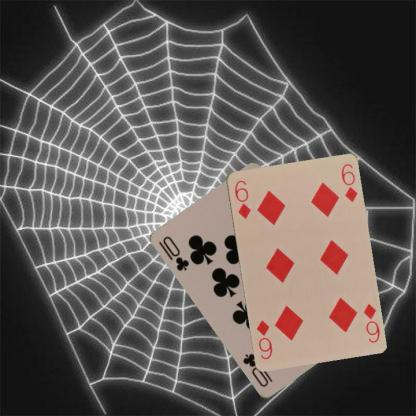10c: (157, 233, 191, 273)
6d: (360, 300, 381, 344), (232, 178, 252, 221)
